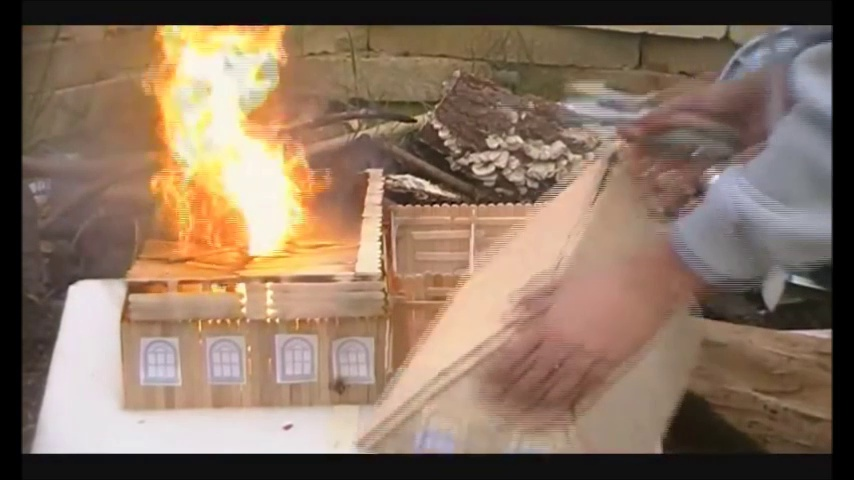fire: (153, 26, 302, 254)
